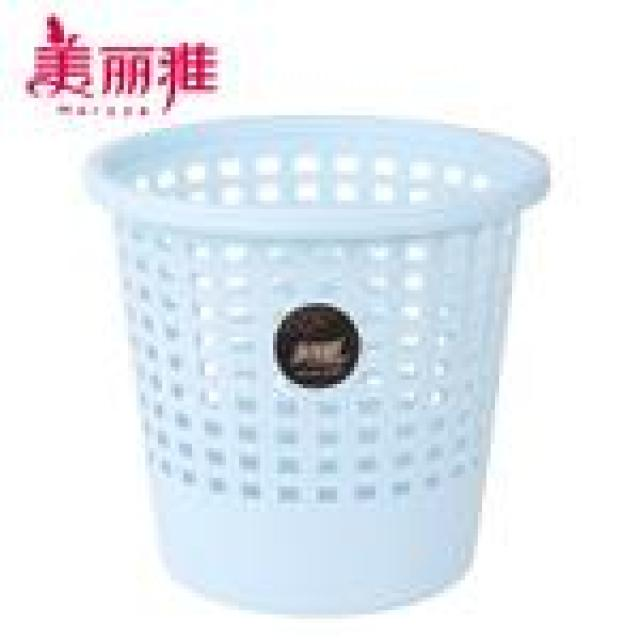dustbin: (79, 104, 562, 621)
